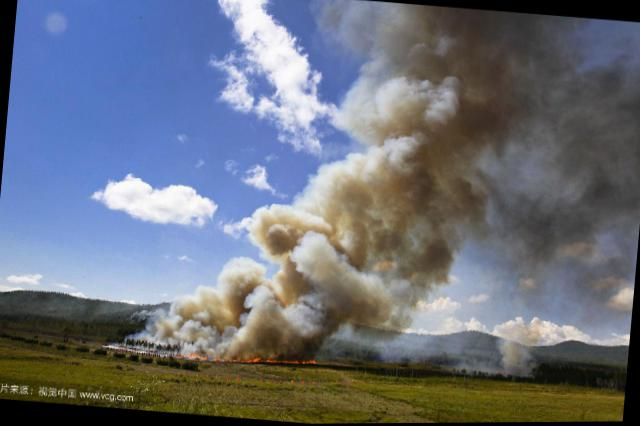fire: (264, 356, 298, 362), (180, 351, 194, 357), (250, 354, 258, 361), (302, 358, 316, 362)
